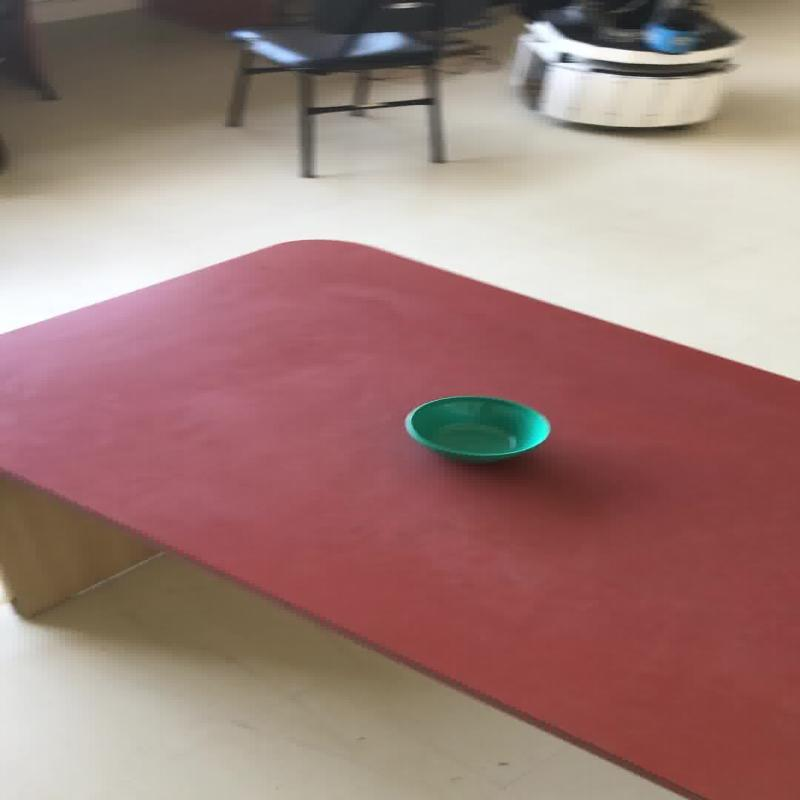bowl: (402, 394, 550, 463)
